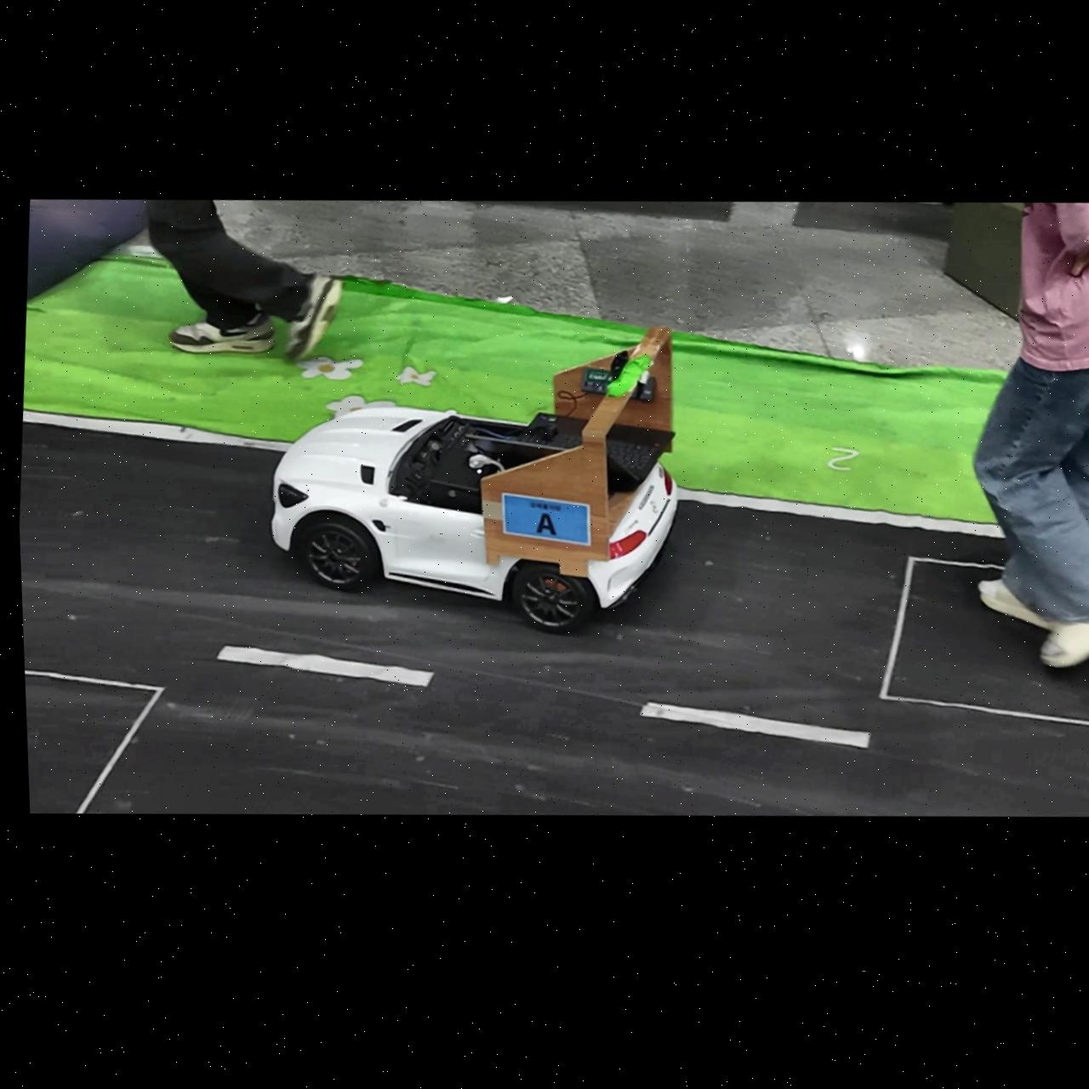broken_line: (640, 702, 870, 748), (217, 646, 433, 687)
